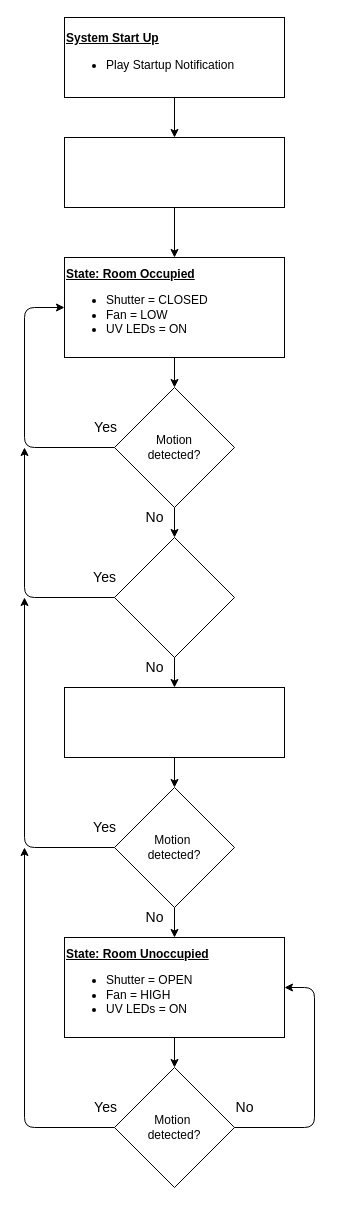
The diagram is 340 pixels wide and 1205 high, and some of its shapes have lost their labels. Here are the shapes that lost their labels. From the top down, the centre of each, then its label:
At pixel 174 172: "State: PIR Stabilization Wait 30 s for PIR to stabilize".
At pixel 174 597: "Has there been motion in the last 10 min?".
At pixel 174 722: "State: Countdown Announce Countdown sequence".
